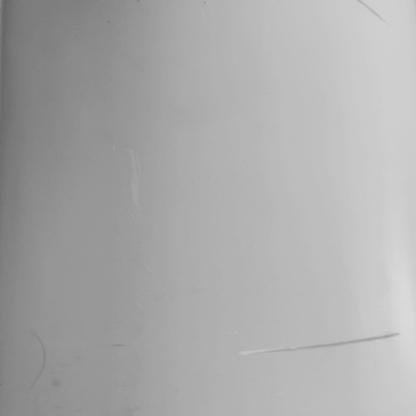sunshang: (247, 334, 398, 355), (29, 330, 54, 394), (361, 1, 385, 22)
